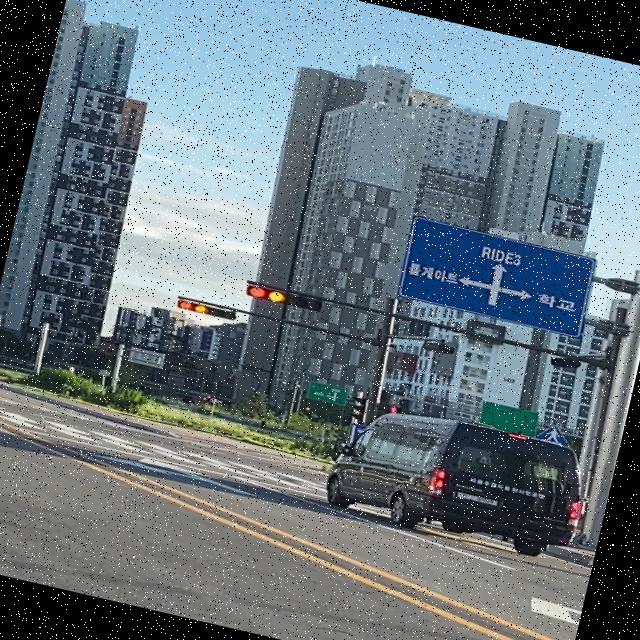yellow_light: (245, 283, 322, 312), (177, 299, 236, 320)
